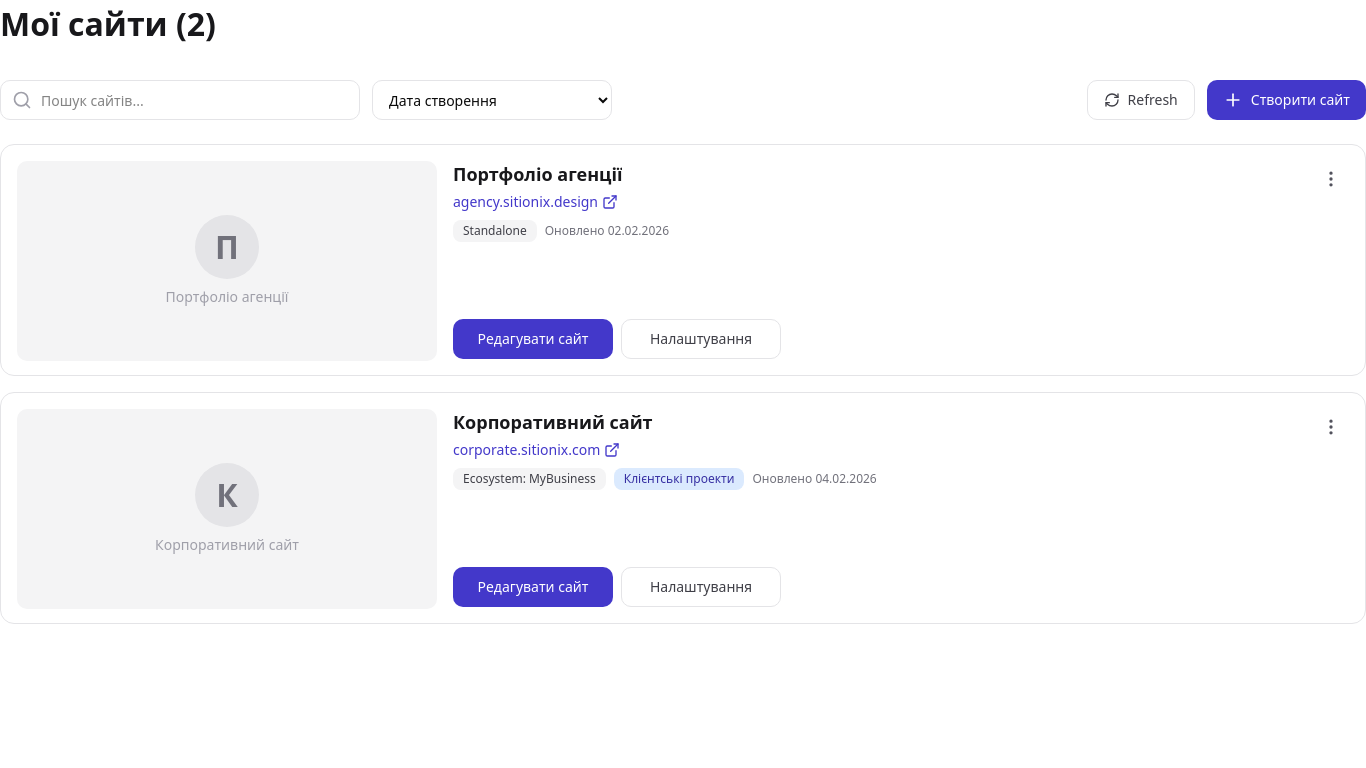
Test: SitesPage › shows a toast when create request fails and keeps sheet open
The width and height of the screenshot is (1366, 768).
Click the button "Створити сайт" at (1286,100), box [1207,80,1365,120]
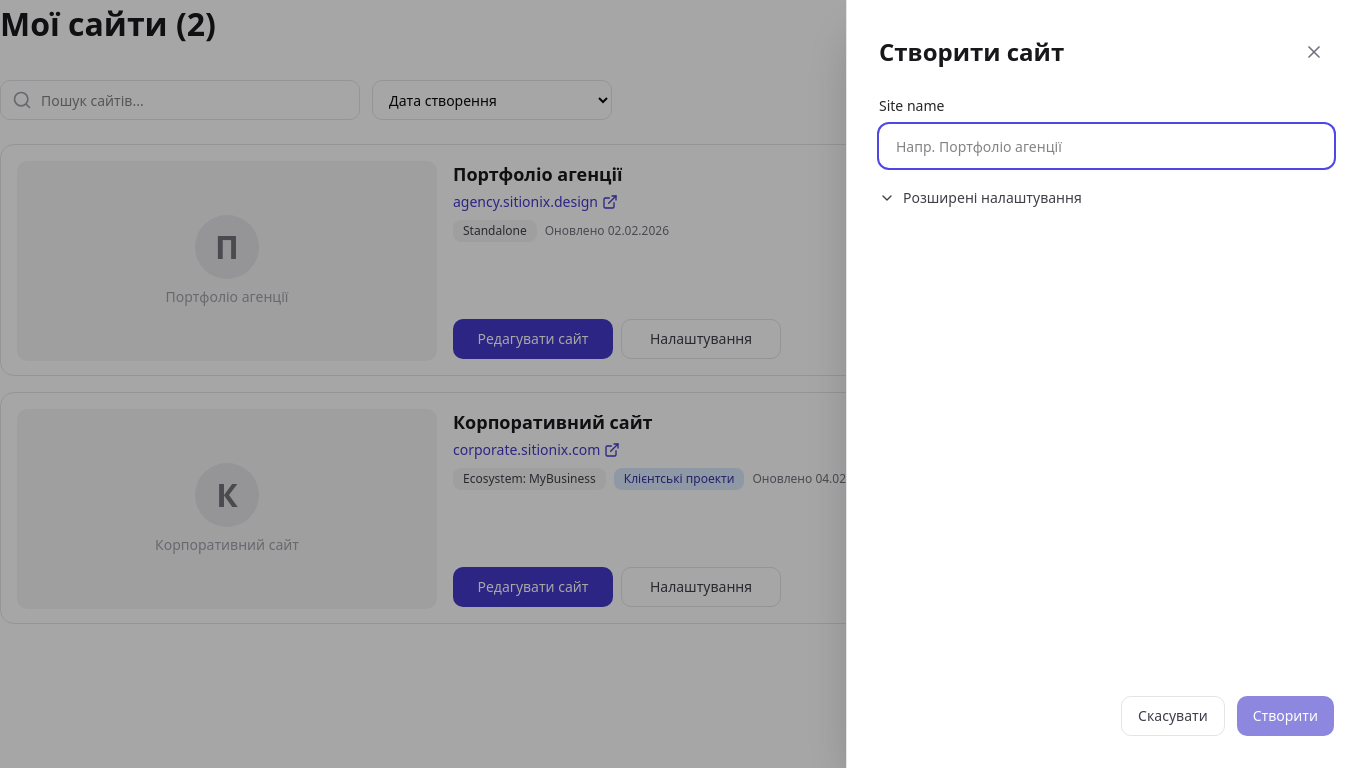
Type "Test site" into the field labelled "Site name" at (1106,146), box [879,124,1334,168]
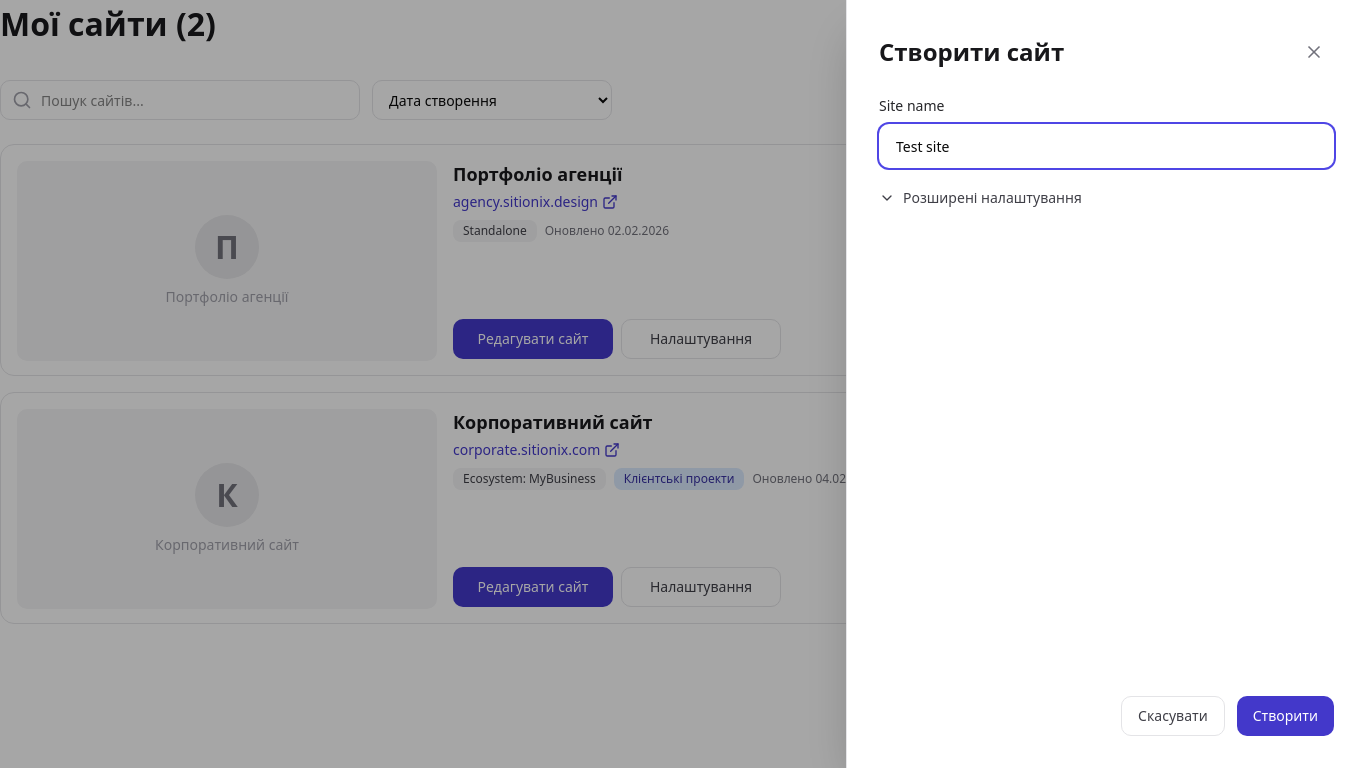
Click the button "Створити" at (1285,716), box [1237,696,1334,736]
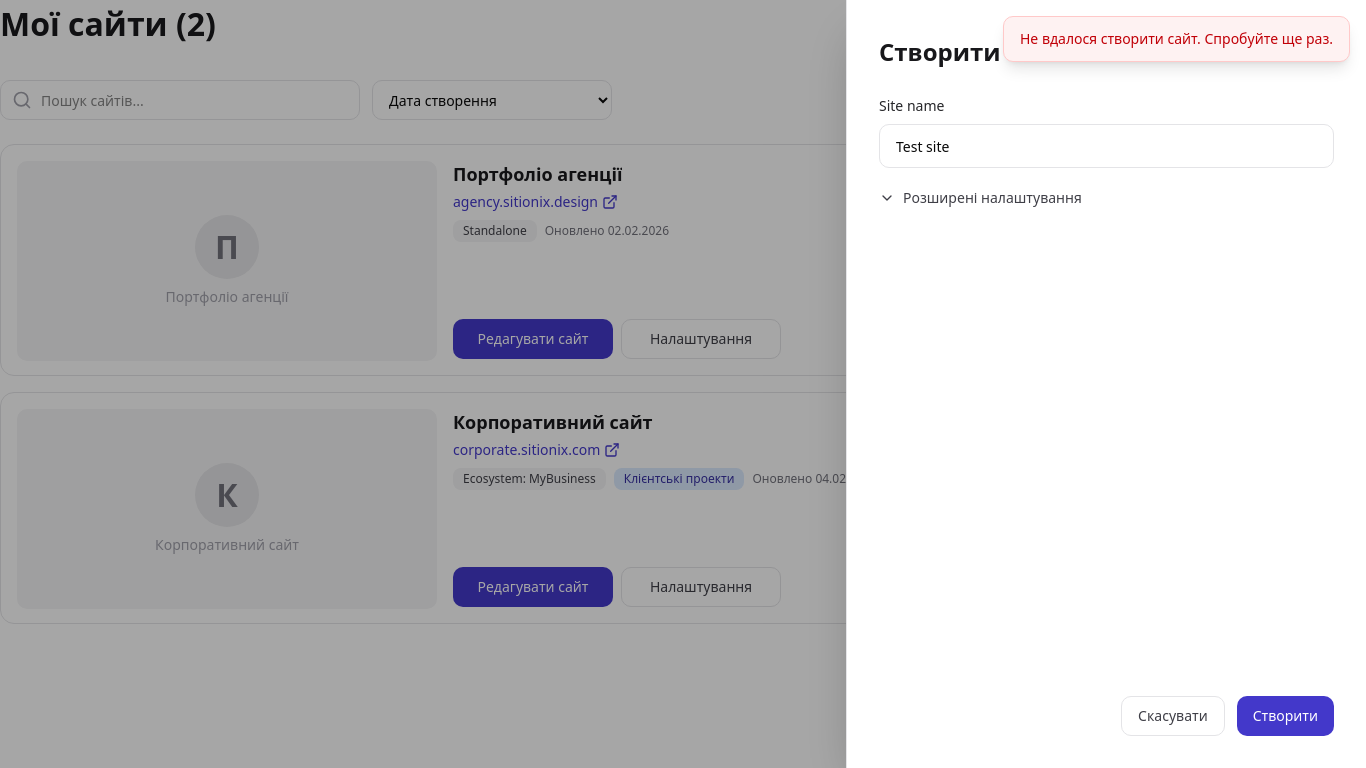
Expected: the heading "Створити сайт" is shown, [879,35,1064,69]
Expected: the message "Не вдалося створити сайт. Спробуйте ще раз." is shown, [1003,16,1350,62]
